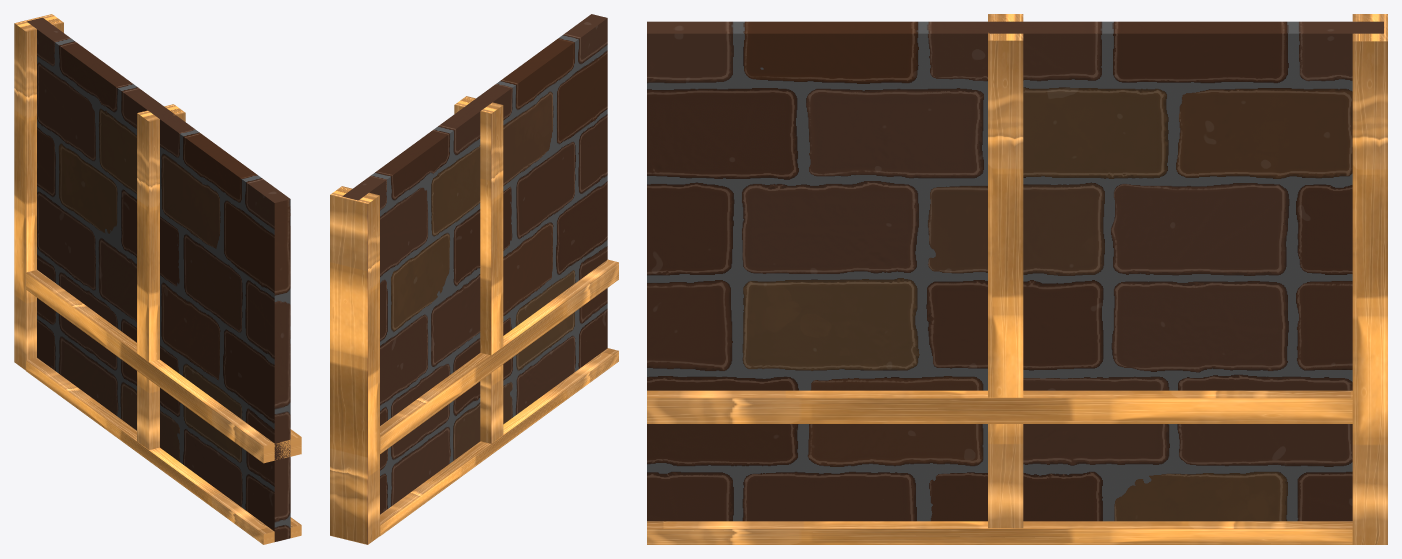
File: SM_Large_Wall_08.fbx
3 renders of one model, left to right at view 1: azimuth 30°, elevation 25°; view 2: azimuth 150°, elevation 25°; view 3: azimuth 270°, elevation 25°, orthographic. The views are drawn at different scales.
Parts seen in each view (by area): view 1: SM_Large_Wall_08; view 2: SM_Large_Wall_08; view 3: SM_Large_Wall_08.
Boxes of the visible parts, x1,y1,x2,y2 form: SM_Large_Wall_08: (14,14,301,544); SM_Large_Wall_08: (330,14,618,544); SM_Large_Wall_08: (647,14,1387,544).
Size of the model in its own units: 35.24 by 300 by 400.
